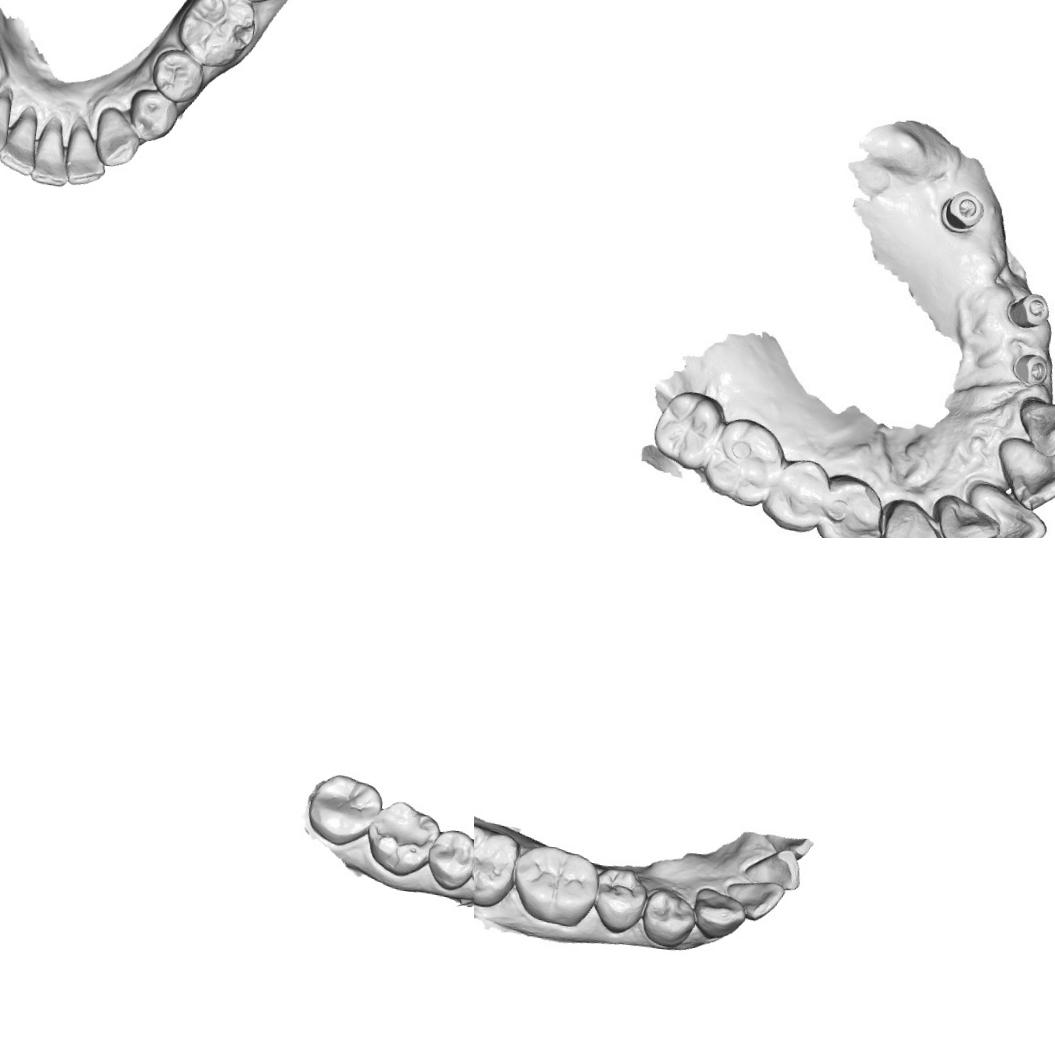canine: (91, 104, 144, 170), (690, 886, 750, 942), (876, 496, 939, 538)
implant: (936, 188, 992, 240), (1008, 286, 1053, 338), (1012, 350, 1054, 390)
incisor: (991, 434, 1055, 518), (963, 486, 1051, 538), (61, 113, 112, 189), (29, 112, 74, 188), (722, 876, 788, 924), (1009, 393, 1055, 460), (0, 104, 42, 177), (742, 844, 804, 892), (934, 496, 1000, 538), (0, 89, 13, 155)
molar: (508, 841, 604, 932), (699, 416, 789, 508), (362, 796, 444, 881), (303, 770, 386, 852), (649, 386, 728, 472), (172, 0, 260, 72), (474, 820, 521, 911)
premolar: (762, 455, 833, 536), (815, 472, 887, 538), (588, 865, 652, 938), (639, 886, 698, 952), (423, 824, 474, 894), (148, 46, 207, 106), (124, 86, 180, 146)
